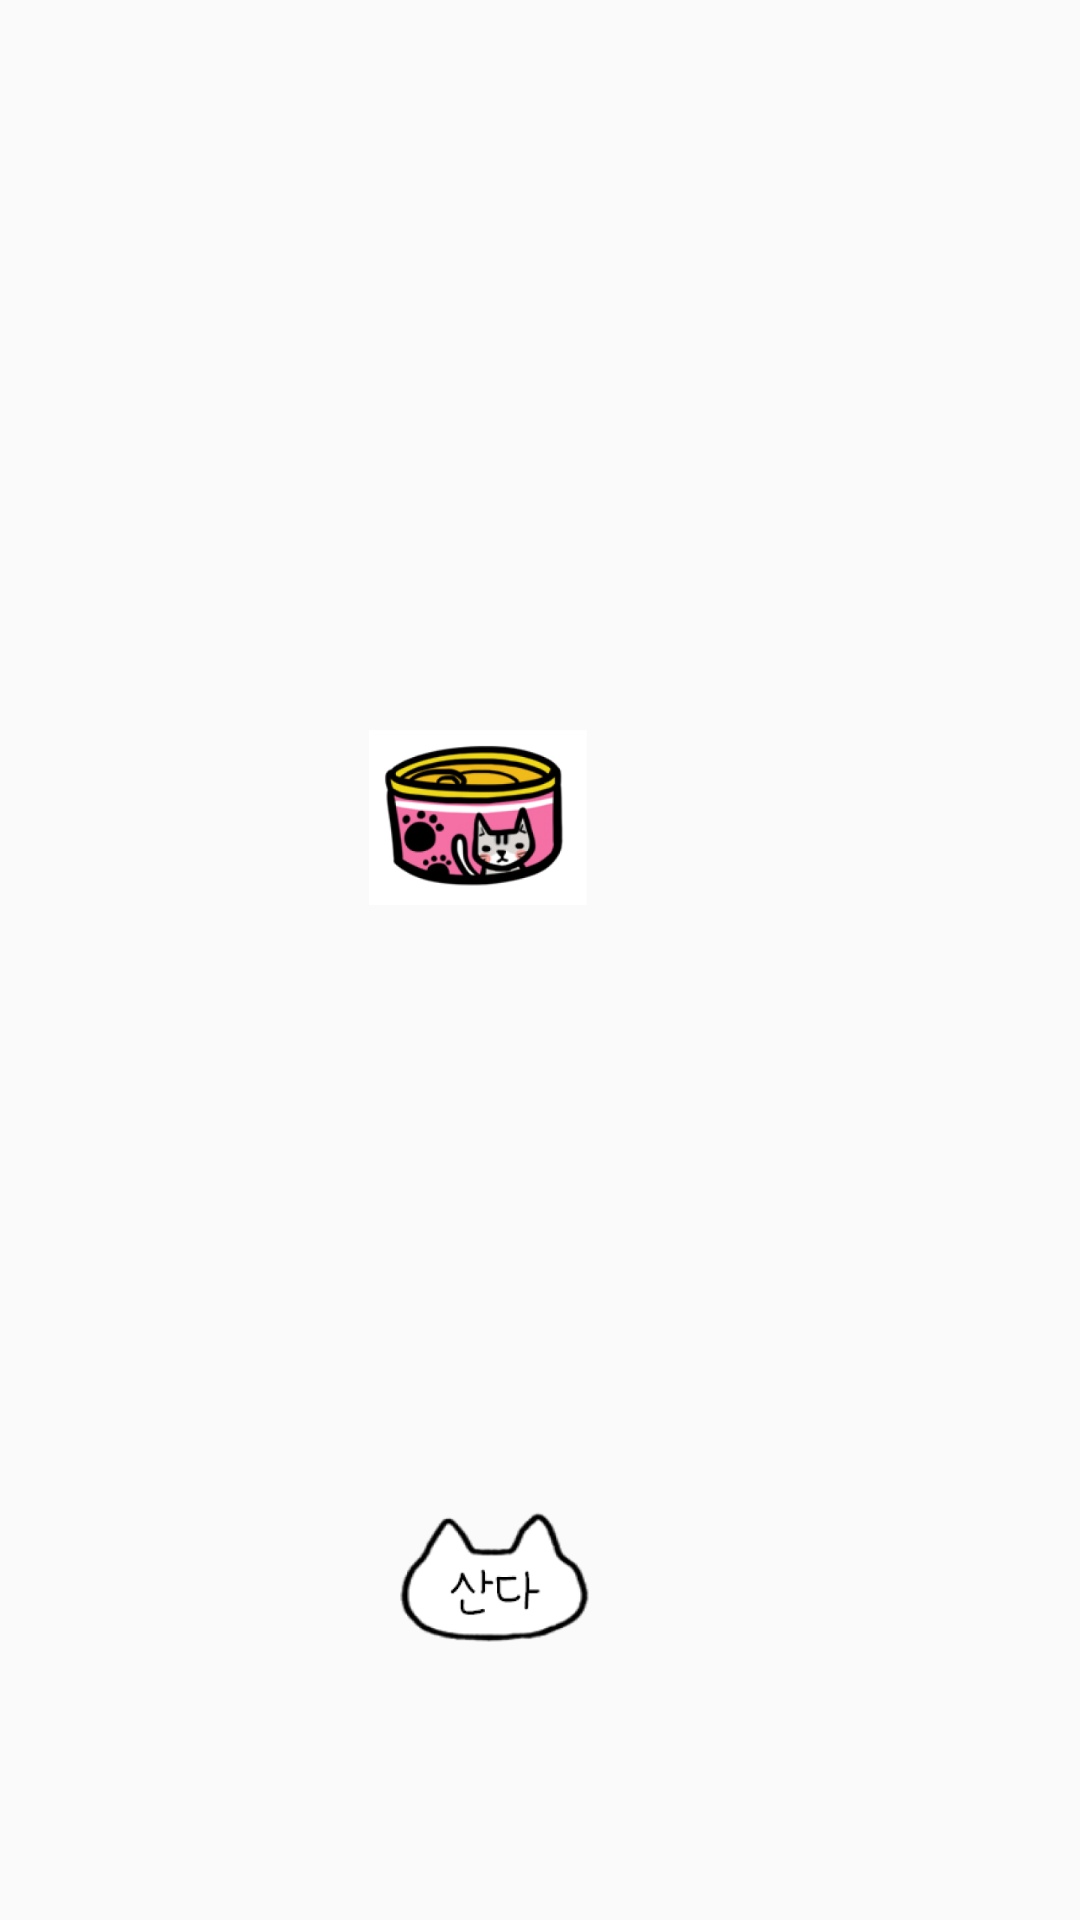

Named icons in this screenshot (1080w x 1920h) and their centers, point (x, y):
feed: point (474, 816)
